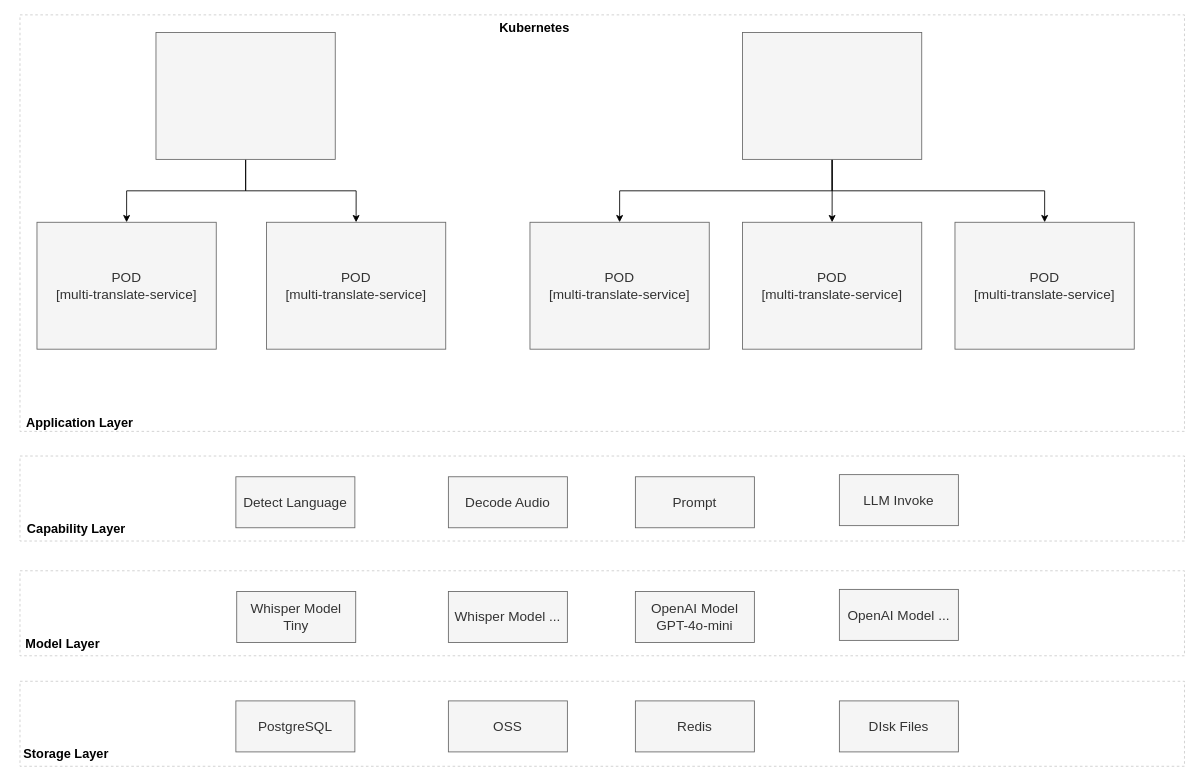
The diagram is 1199 pixels wide and 781 high, and some of its shapes have lost their labels. Each missing label, with the centre of its shape:
Deployment [multi-translate-service]: the point at 245,95
Deployment [worker]: the point at 832,95
